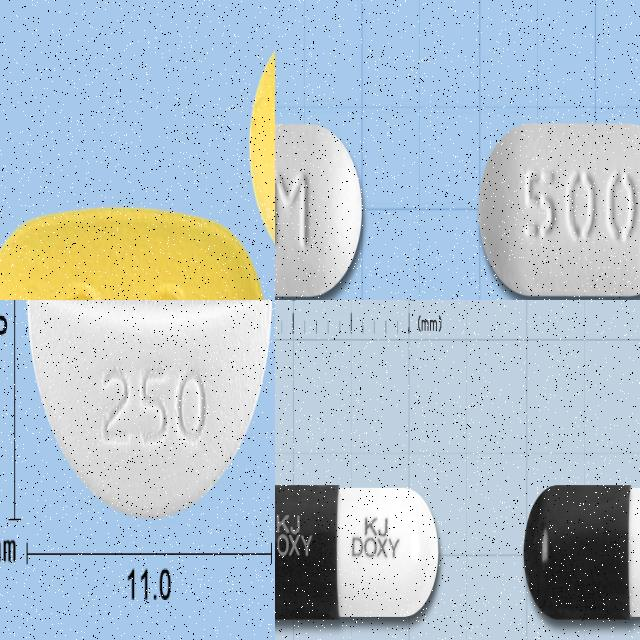Amoclan Duo: (477, 122, 640, 300), (275, 118, 364, 300)
Cirok -500mg: (24, 300, 275, 523)
Clithocin - 500mg: (0, 204, 268, 300)
Doxycycline Hyclate Cap: (275, 485, 440, 622), (522, 484, 640, 621)
